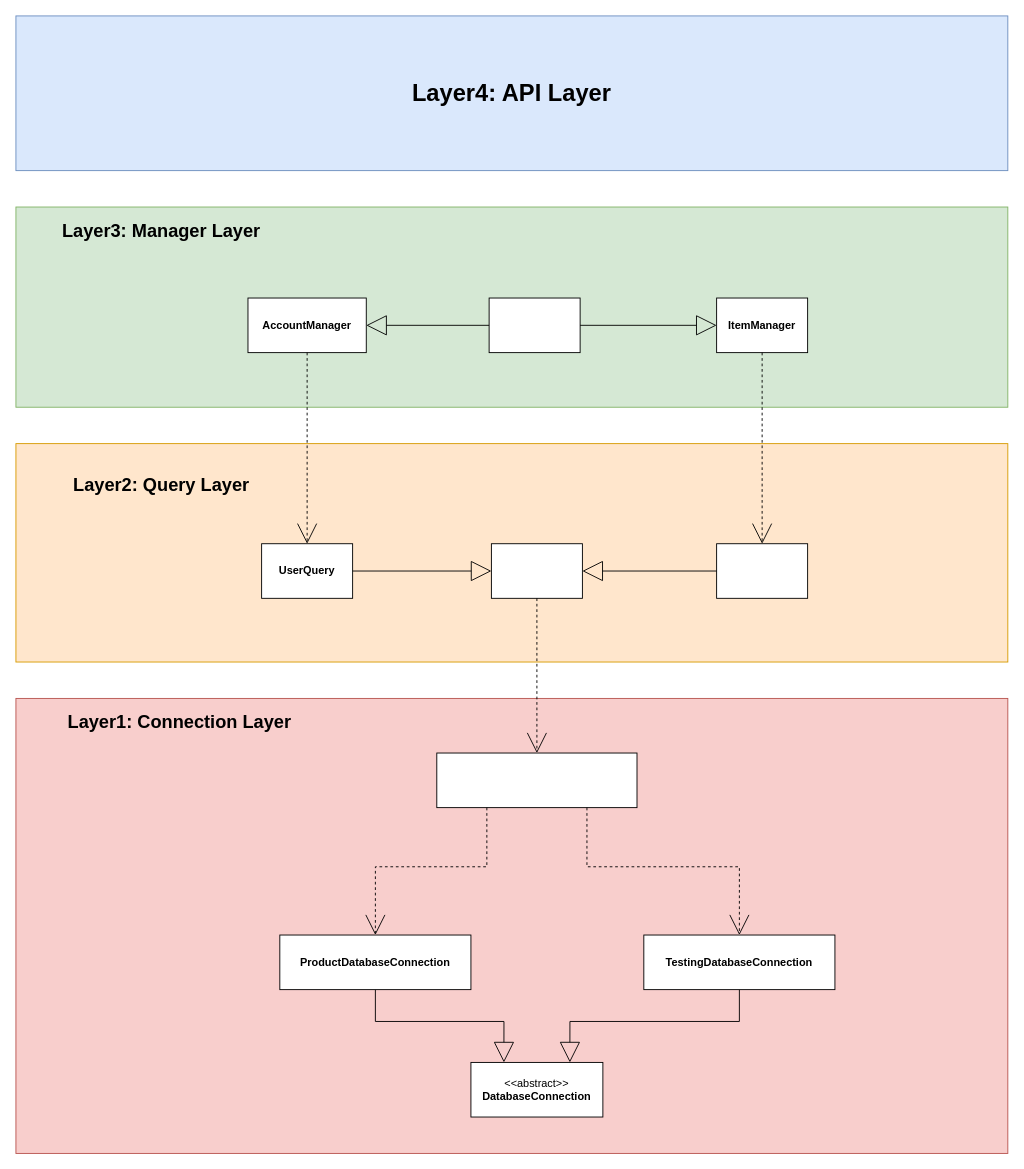
Image size: 1024x1169. Some labels were removed from this diagram. The shapes that lost their labels are listed below. From the top down, each one's centre as x and y in pixels, then its label:
(x=534, y=325): <<abstract>> Manager
(x=536, y=570): <<abstract> DBQuery
(x=762, y=570): ItemQuery
(x=536, y=780): DatabaseConnectionGenerator
